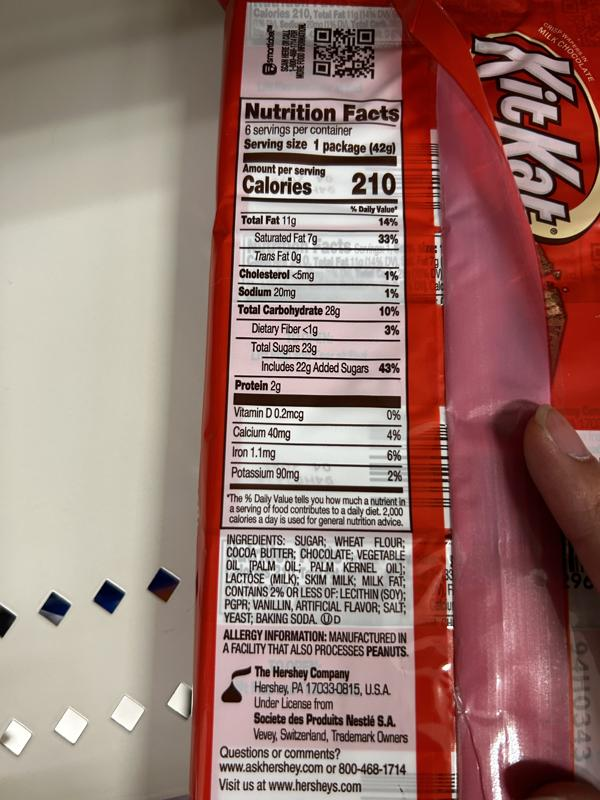ingredients: (221, 531, 409, 627)
